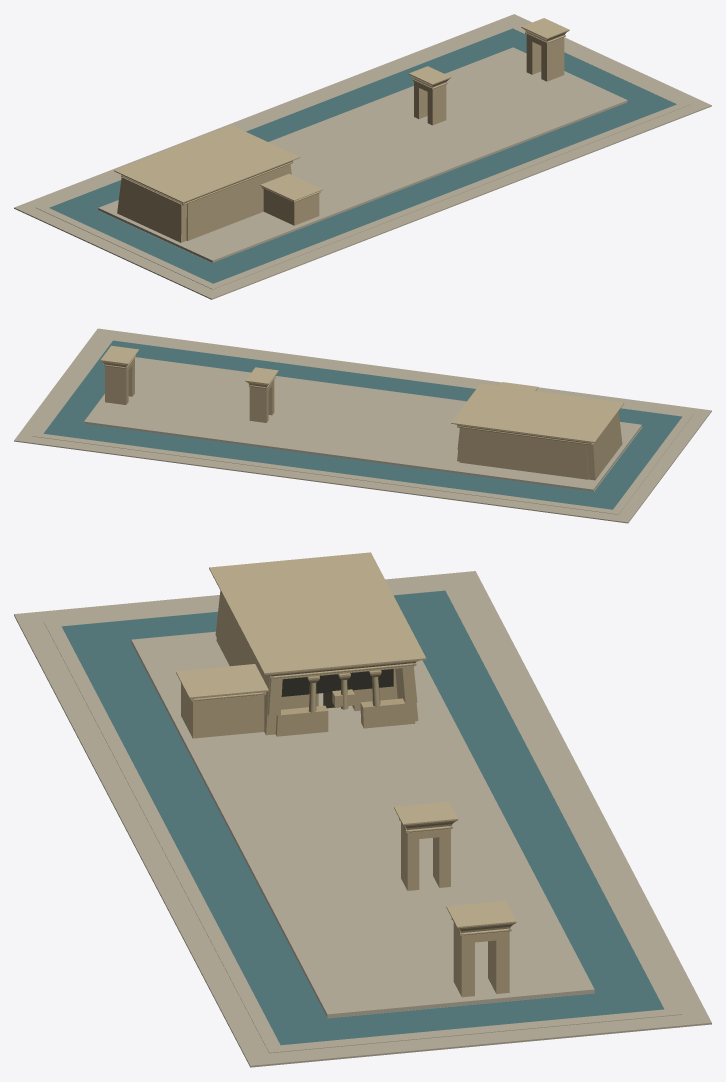
Rendered from templo-de-debod-far.glb.
The picture shows the model from 3 angles, top to bottom: view 1: azimuth 30°, elevation 25°; view 2: azimuth 150°, elevation 25°; view 3: azimuth 270°, elevation 25°; orthographic projection. The views are drawn at different scales.
Parts seen in each view (by area): view 1: templo-de-debod-0-platform, templo-de-debod-0-water, templo-de-debod-0-stone, templo-de-debod-0-cornice; view 2: templo-de-debod-0-platform, templo-de-debod-0-water, templo-de-debod-0-stone, templo-de-debod-0-cornice; view 3: templo-de-debod-0-platform, templo-de-debod-0-water, templo-de-debod-0-cornice, templo-de-debod-0-stone, templo-de-debod-0-recess.
Part boxes in pixels (x1=…): templo-de-debod-0-platform: x1=14, y1=14, x2=711, y2=299; templo-de-debod-0-water: x1=49, y1=28, x2=676, y2=283; templo-de-debod-0-stone: x1=114, y1=27, x2=569, y2=242; templo-de-debod-0-cornice: x1=114, y1=18, x2=569, y2=202; templo-de-debod-0-platform: x1=14, y1=328, x2=711, y2=523; templo-de-debod-0-water: x1=44, y1=340, x2=681, y2=509; templo-de-debod-0-stone: x1=100, y1=350, x2=624, y2=480; templo-de-debod-0-cornice: x1=101, y1=345, x2=623, y2=441; templo-de-debod-0-platform: x1=14, y1=571, x2=711, y2=1067; templo-de-debod-0-water: x1=61, y1=590, x2=663, y2=1045; templo-de-debod-0-cornice: x1=176, y1=552, x2=516, y2=926; templo-de-debod-0-stone: x1=176, y1=568, x2=516, y2=997; templo-de-debod-0-recess: x1=281, y1=669, x2=393, y2=696.
Size of the model in its own units: 94.13 by 7 by 56.1.
